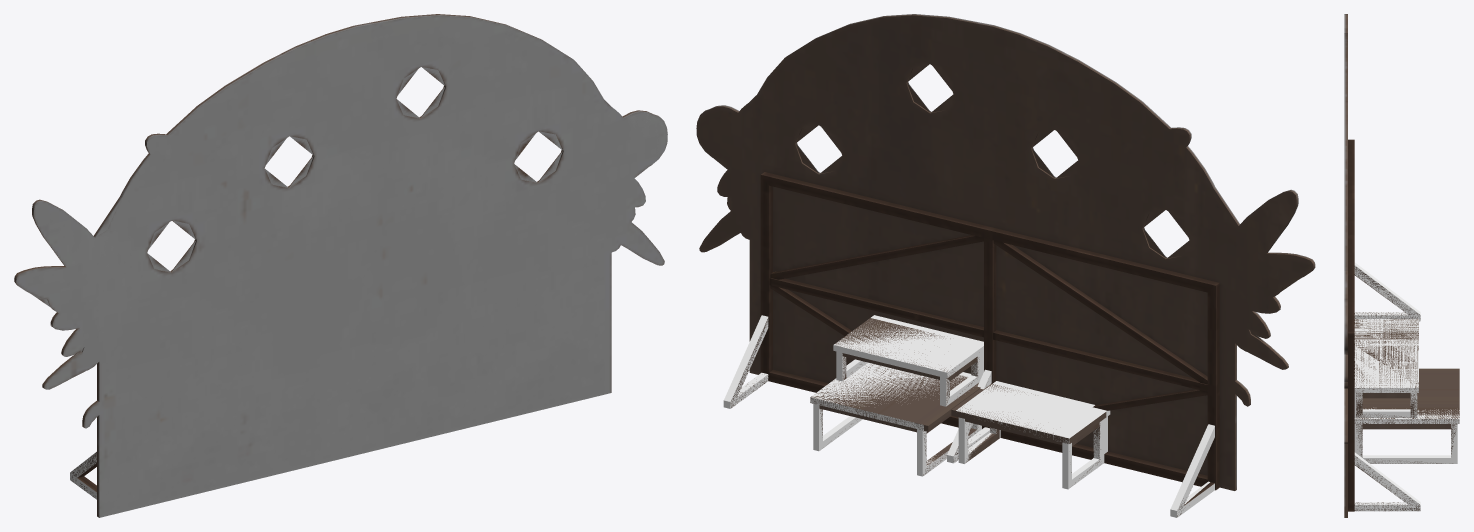
The model's file is objects_un_faceinfour01.gltf.
The picture shows the model from 3 angles, left to right: view 1: azimuth 30°, elevation 25°; view 2: azimuth 150°, elevation 25°; view 3: azimuth 270°, elevation 25°; orthographic projection. The views are drawn at different scales.
Parts seen in each view (by area): view 1: um_objects_un_faceinfour01_model_lod0Shape:objects_un_facein, um_objects_un_faceinfour01_model_lod1Shape:objects_un_facein, um_objects_un_faceinfour01_model_lod2Shape:objects_un_facein; view 2: um_objects_un_faceinfour01_model_lod0Shape:objects_un_facein (×2), um_objects_un_faceinfour01_model_lod1Shape:objects_un_facein, um_objects_un_faceinfour01_model_lod2Shape:objects_un_facein; view 3: um_objects_un_faceinfour01_model_lod0Shape:objects_un_facein (×2), um_objects_un_faceinfour01_model_lod2Shape:objects_un_facein, um_objects_un_faceinfour01_model_lod1Shape:objects_un_facein.
Boxes of the visible parts, <box> form: um_objects_un_faceinfour01_model_lod0Shape:objects_un_facein: <box>14,14,667,517</box>; um_objects_un_faceinfour01_model_lod1Shape:objects_un_facein: <box>17,17,665,427</box>; um_objects_un_faceinfour01_model_lod2Shape:objects_un_facein: <box>30,67,562,359</box>; um_objects_un_faceinfour01_model_lod0Shape:objects_un_facein (×2): <box>696,14,1315,517</box>; um_objects_un_faceinfour01_model_lod1Shape:objects_un_facein: <box>697,20,1312,483</box>; um_objects_un_faceinfour01_model_lod2Shape:objects_un_facein: <box>796,64,1299,475</box>; um_objects_un_faceinfour01_model_lod0Shape:objects_un_facein (×2): <box>1344,14,1459,517</box>; um_objects_un_faceinfour01_model_lod2Shape:objects_un_facein: <box>1354,319,1459,455</box>; um_objects_un_faceinfour01_model_lod1Shape:objects_un_facein: <box>1344,140,1354,354</box>.
Size of the model in its own units: 3.66 by 2.3 by 0.678.
2 materials, 1 textured.
